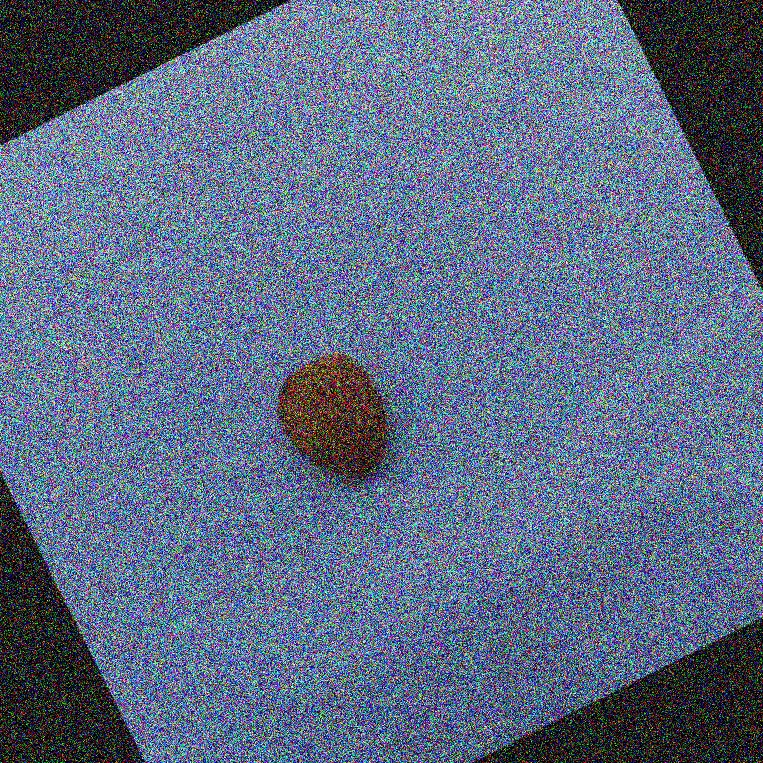grade1: (251, 328, 424, 512)
